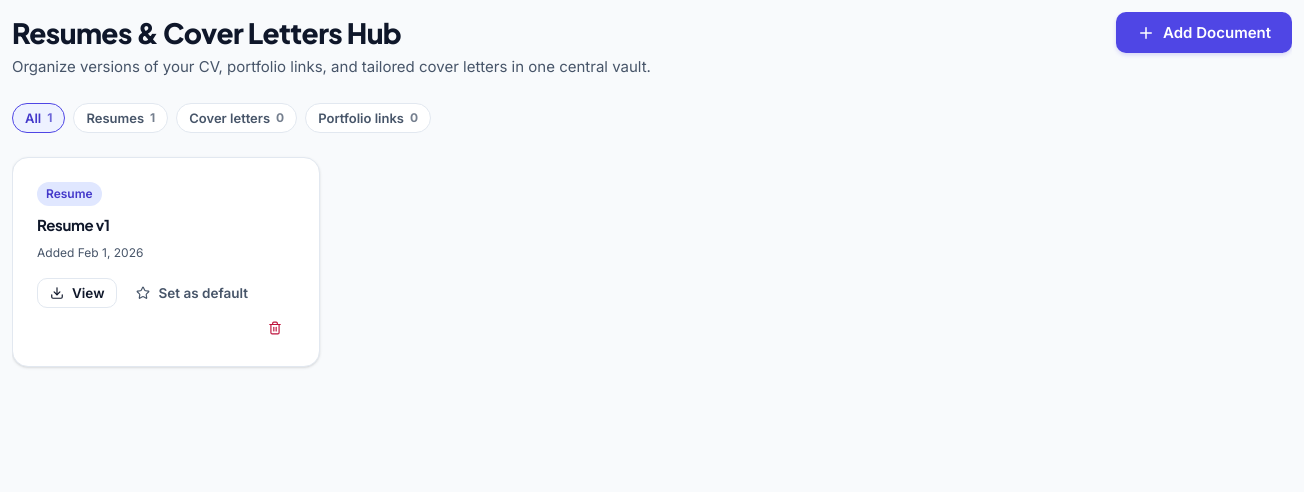
filtering by type › has a distinct empty state for a filter that matches nothing
The image size is (1304, 492).
Click the radio button labelled "Cover letters 0": x=237, y=118 x1=176 y1=102 x2=297 y2=132
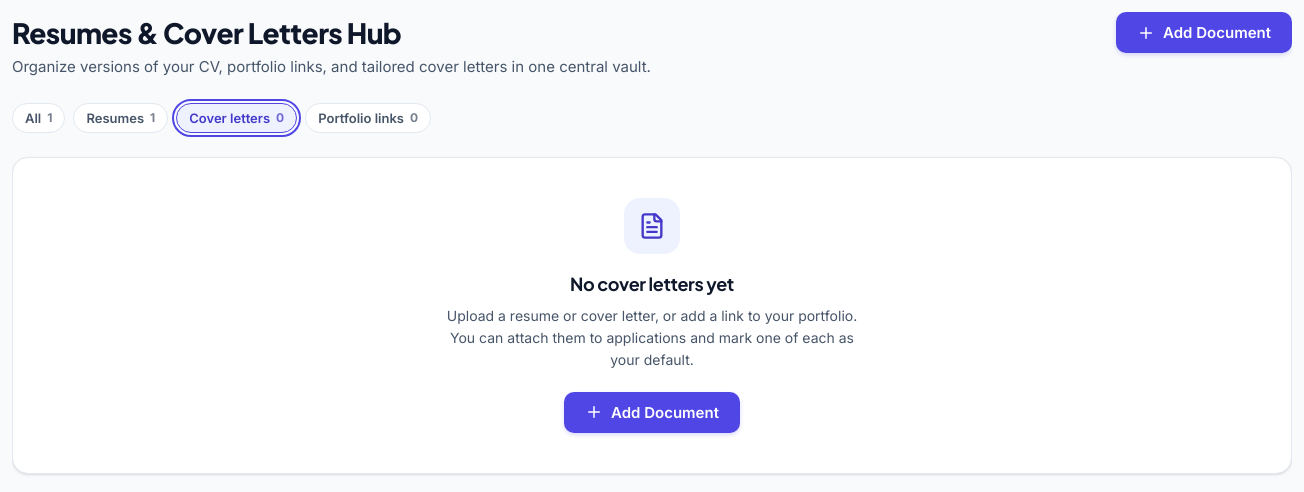
Expected: the heading "No cover letters yet" is shown, x1=570 y1=272 x2=734 y2=294
